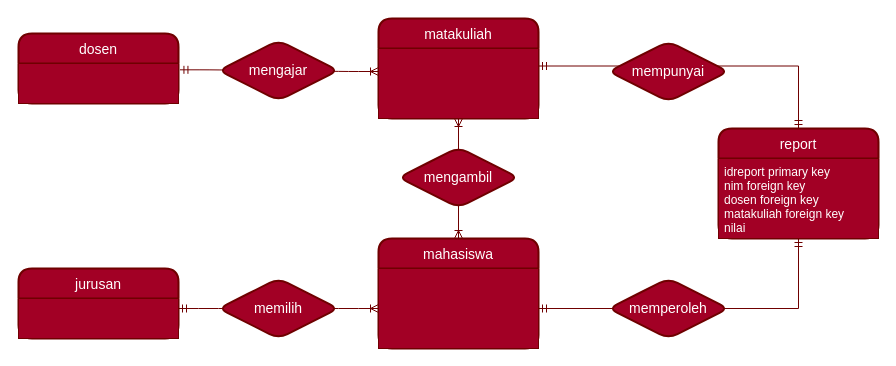
Image size: 896x366. Some labels were removed from this diagram. The centre of each missing label's shape, as x and y in pixels:
idjurusan primary key namajurusan: point 98,318
idmk primary key namamk sks dosen foreign key: point 458,83
nim primary key nama alamat umur jurusan foreign key: point 458,308
nip primary key namadosen: point 98,83
